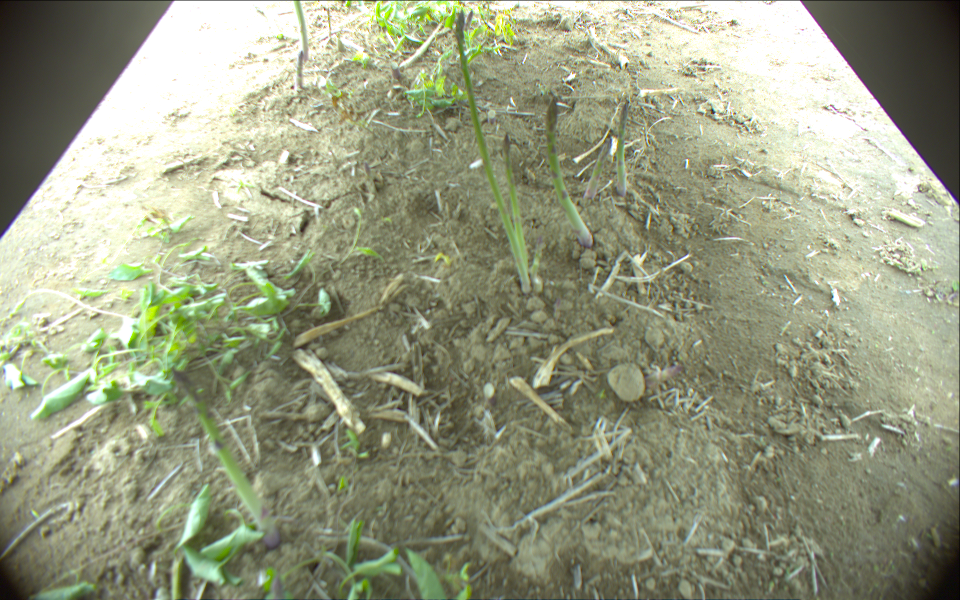aspa: (452, 9, 534, 292), (167, 367, 283, 548), (542, 101, 596, 245), (500, 134, 531, 273), (396, 22, 446, 68), (584, 134, 614, 201), (617, 101, 631, 197), (294, 1, 308, 55), (292, 51, 305, 86), (328, 8, 332, 43)
